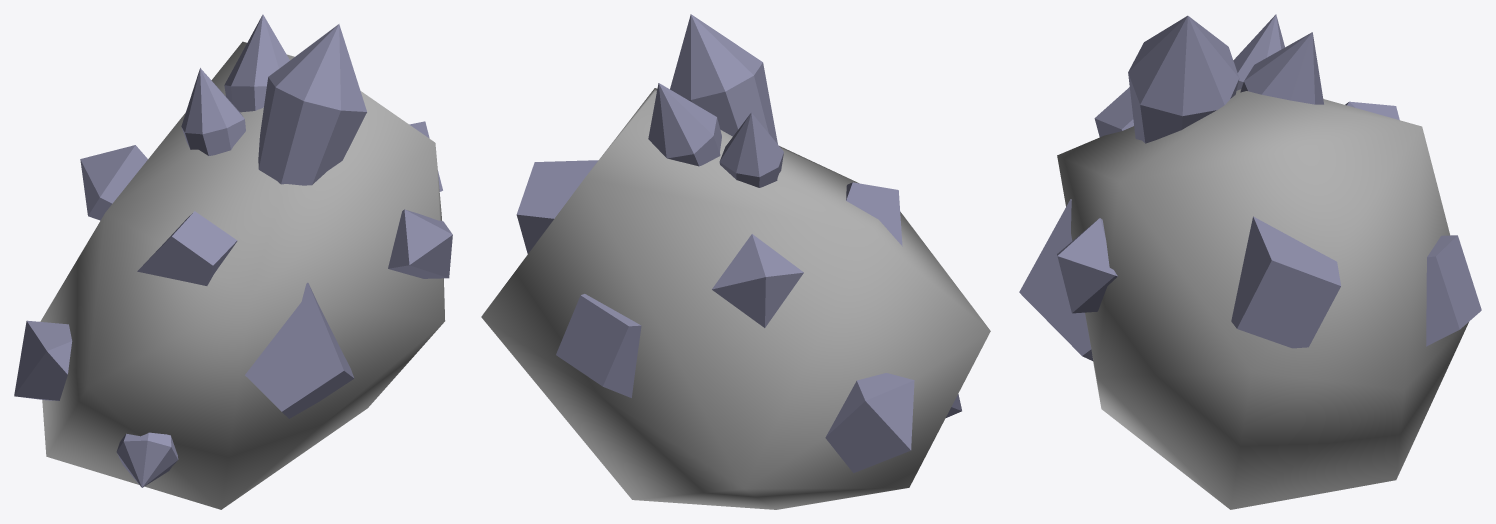
Rendered from OreRock.fbx.
3 renders of one model, left to right at view 1: azimuth 30°, elevation 25°; view 2: azimuth 150°, elevation 25°; view 3: azimuth 270°, elevation 25°, orthographic. The views are drawn at different scales.
Visible parts, largest first — view 1: Ores; view 2: Ores; view 3: Ores.
Boxes of the visible parts, x1=… form: Ores: x1=14, y1=14, x2=452, y2=509; Ores: x1=481, y1=14, x2=990, y2=509; Ores: x1=1019, y1=14, x2=1481, y2=509.
Size of the model in its own units: 4.09 by 4.02 by 3.5.
